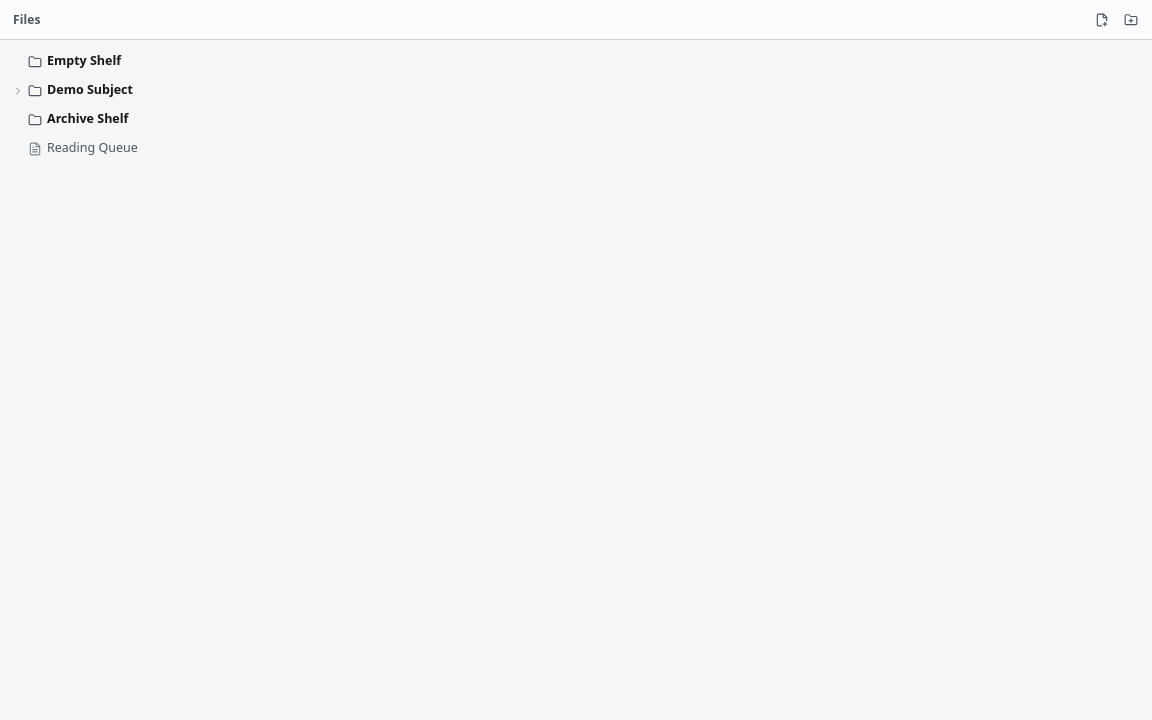
Test: FileExplorer › confirms and trashes the compacted multi-selection
Click the list item "Empty Shelf" at coordinates (84, 61), box [6,47,1146,76]
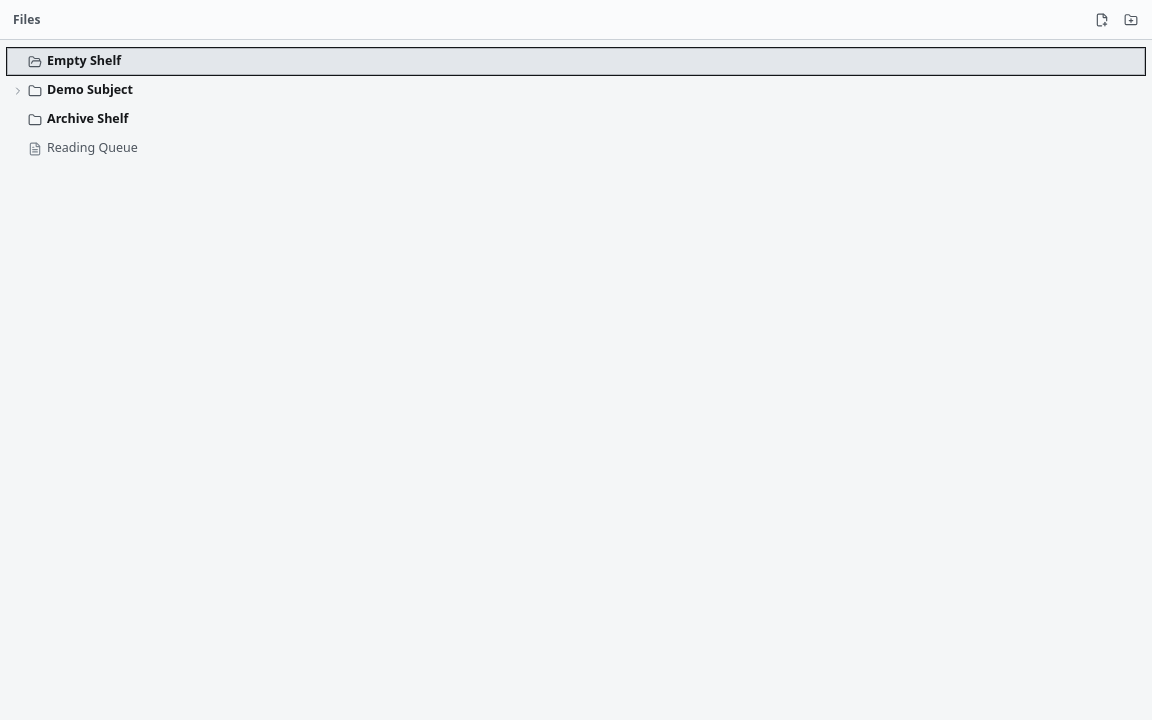
Click the list item "Archive Shelf" at coordinates (88, 119), box [6,105,1146,134]
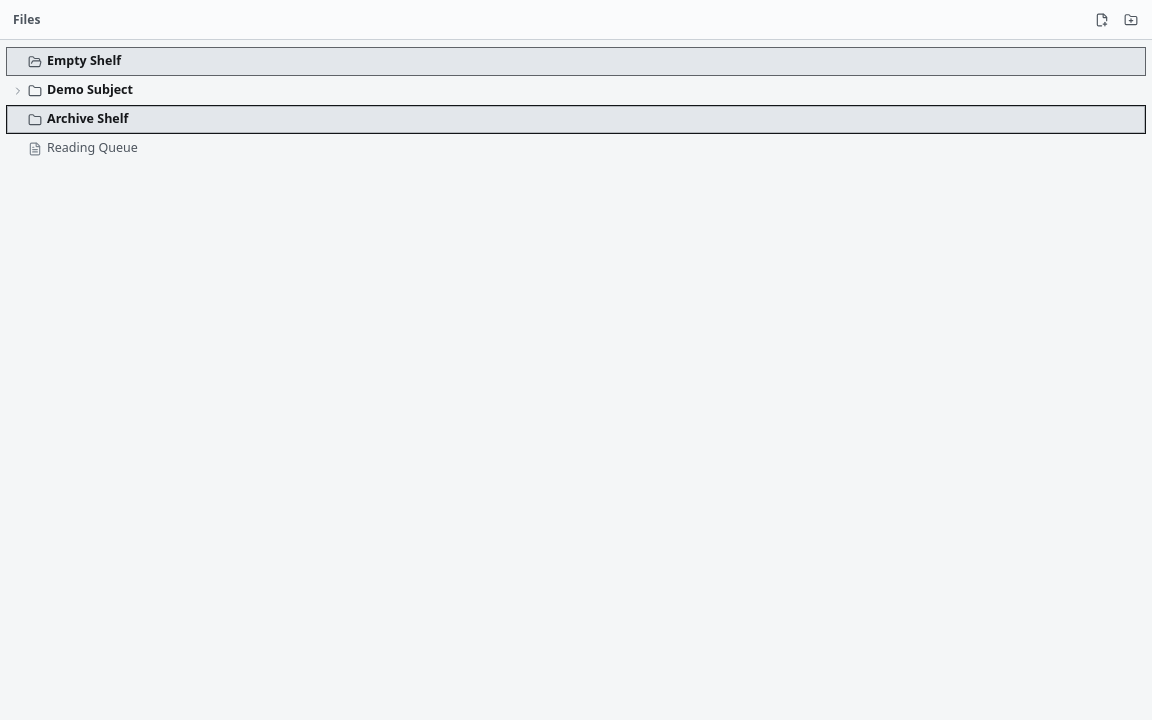
Press Delete in the list item "Archive Shelf", box [6,105,1146,134]
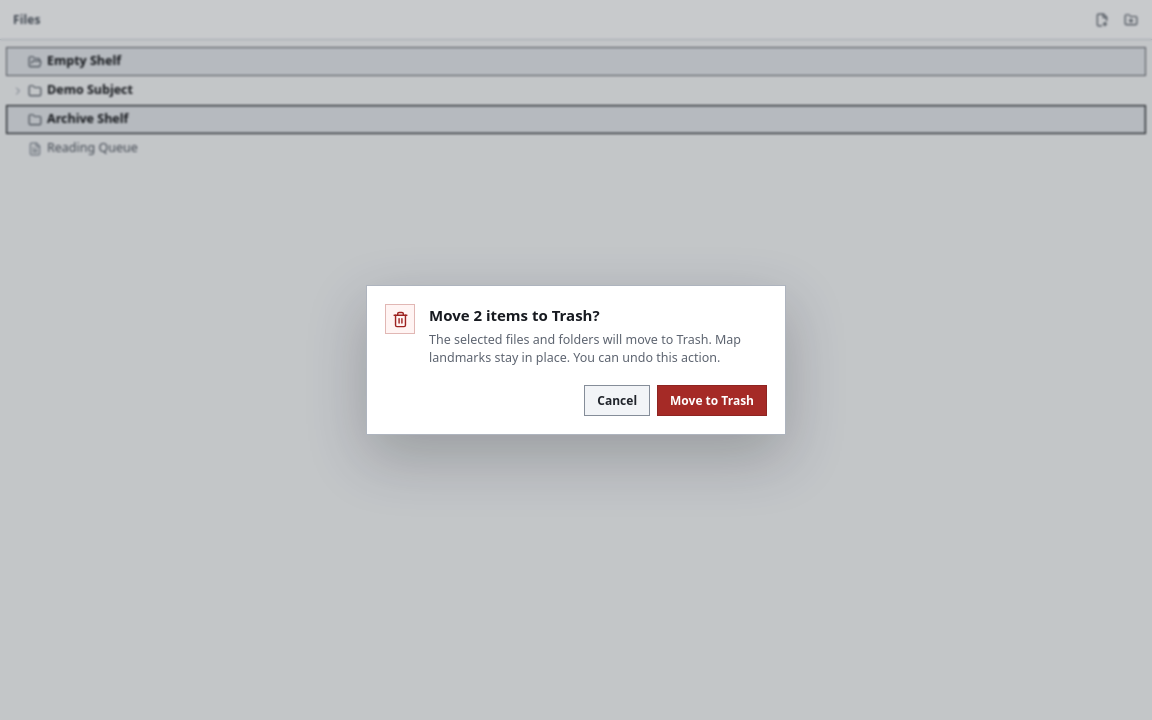
Check: the dialog "Move 2 items to Trash?" is shown, box [366,285,786,435]
Click the button "Move to Trash" at coordinates (712, 400), box [657,385,767,416]
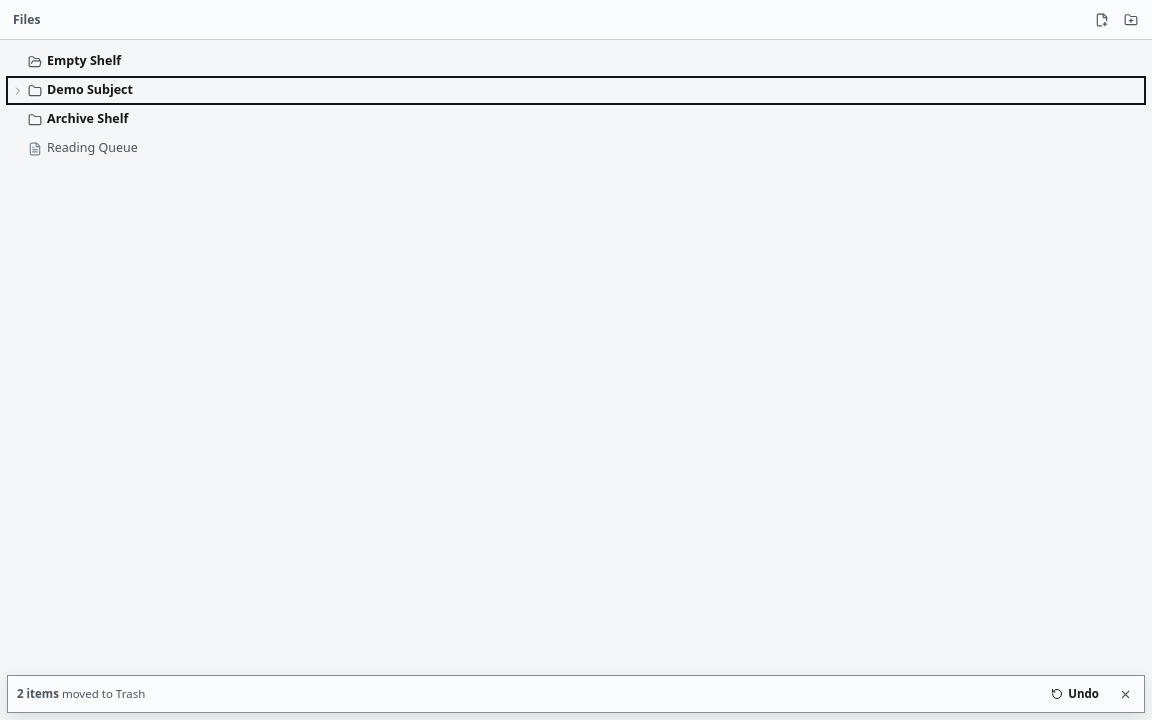
Check: the message shows "2 items moved to Trash", box [7,675,1145,713]
